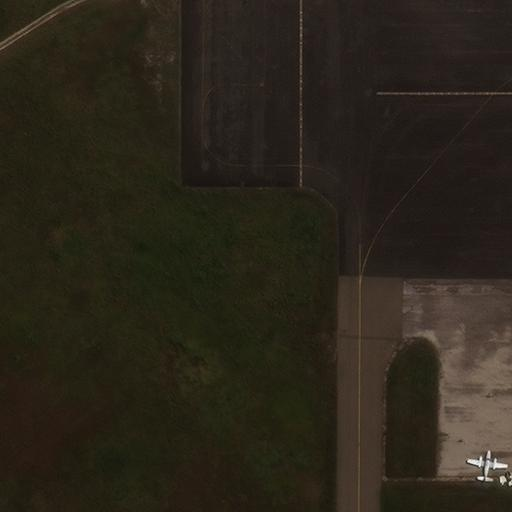Small Civil Transport: (468, 450, 507, 482)
